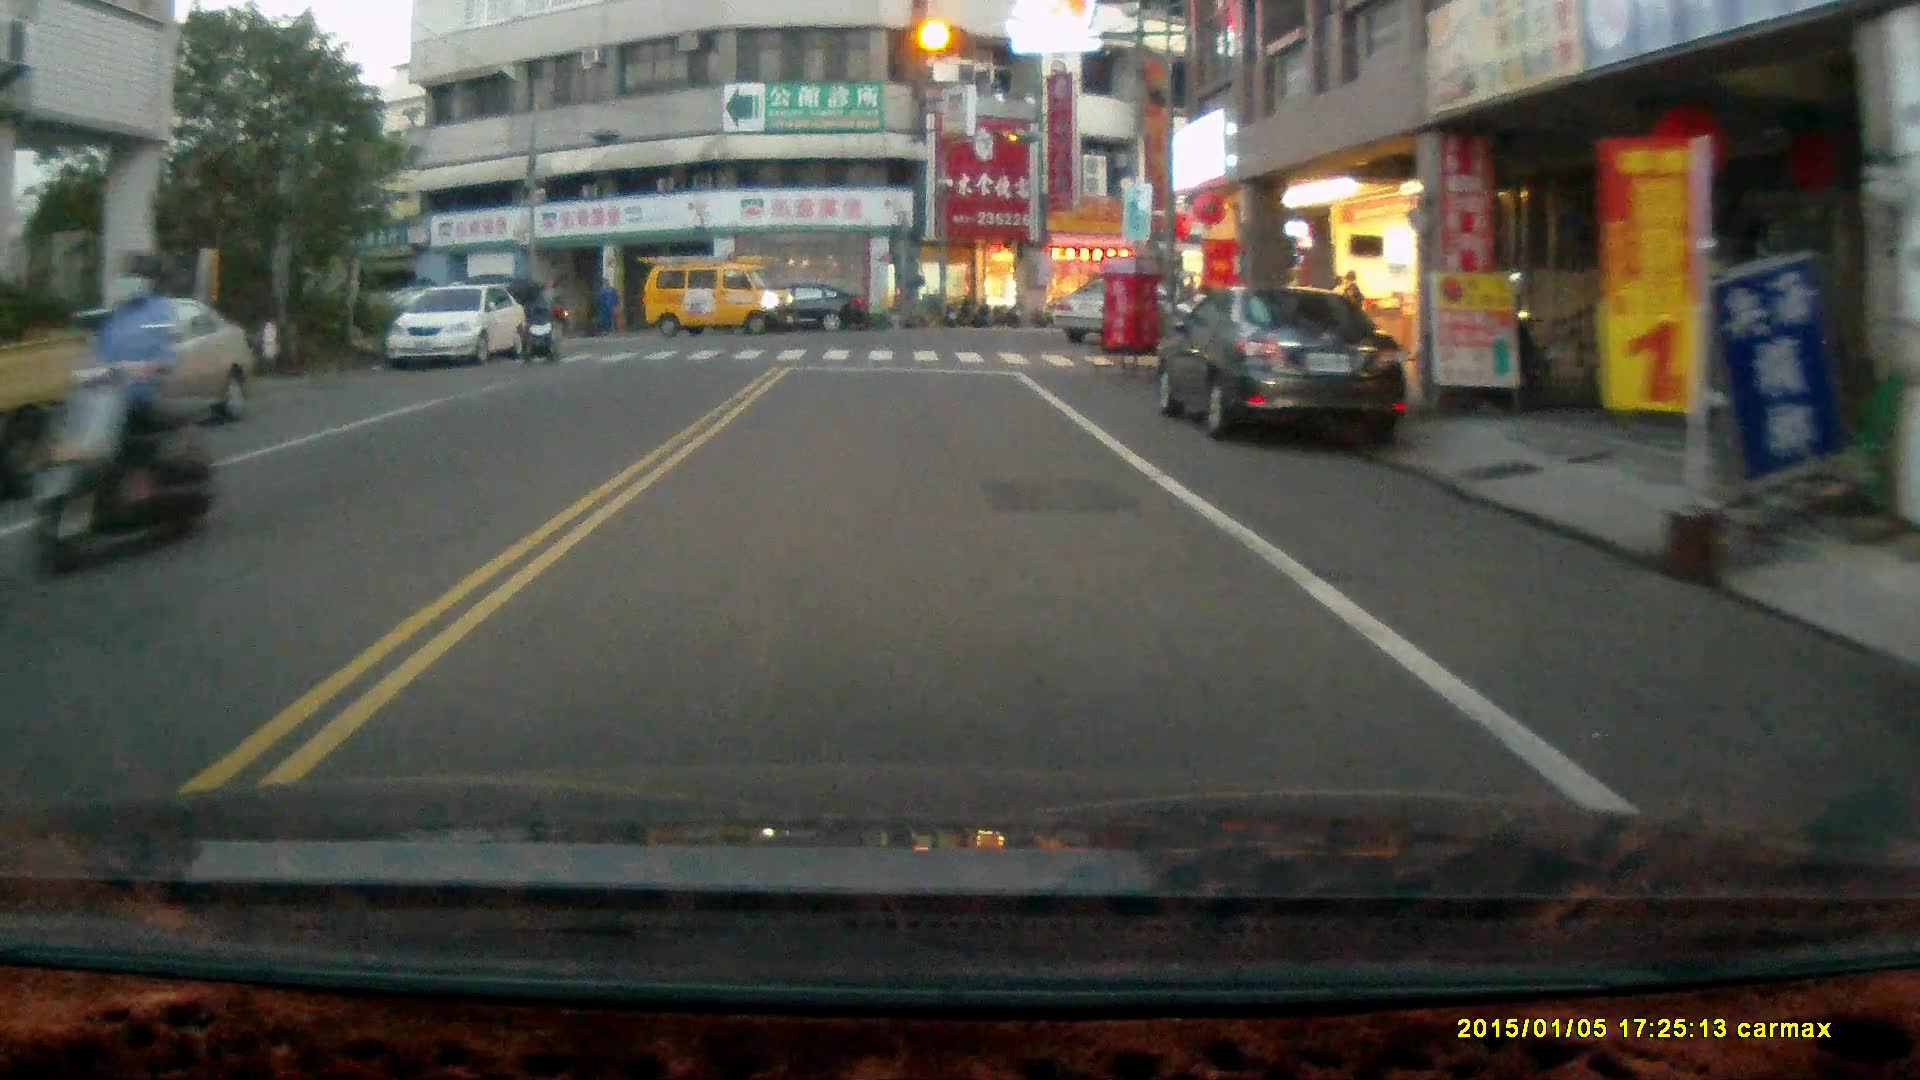pedestrian: (539, 272, 561, 344)
rider: (29, 254, 213, 576), (516, 300, 565, 366)
vehicle: (1155, 288, 1414, 452), (21, 296, 243, 446), (643, 252, 798, 336), (1046, 276, 1210, 351), (392, 288, 528, 373), (744, 283, 868, 334)
